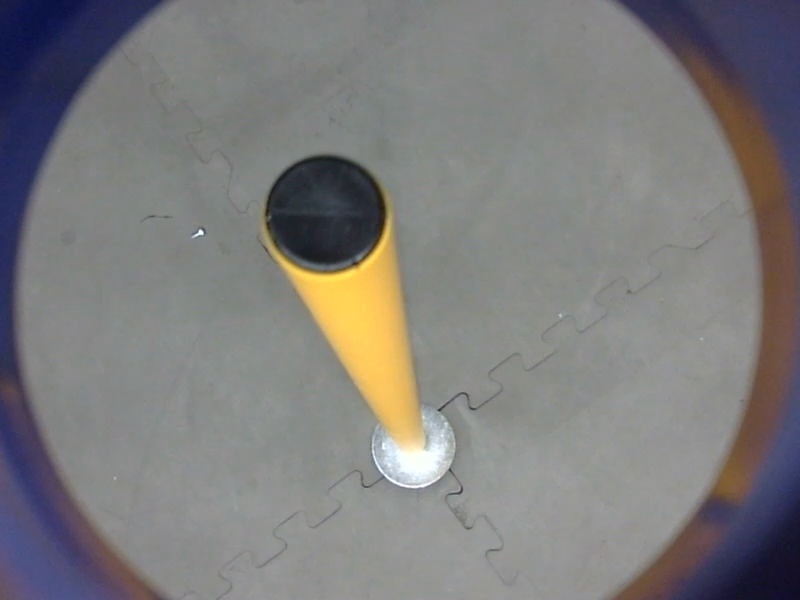tip: (254, 144, 396, 283)
